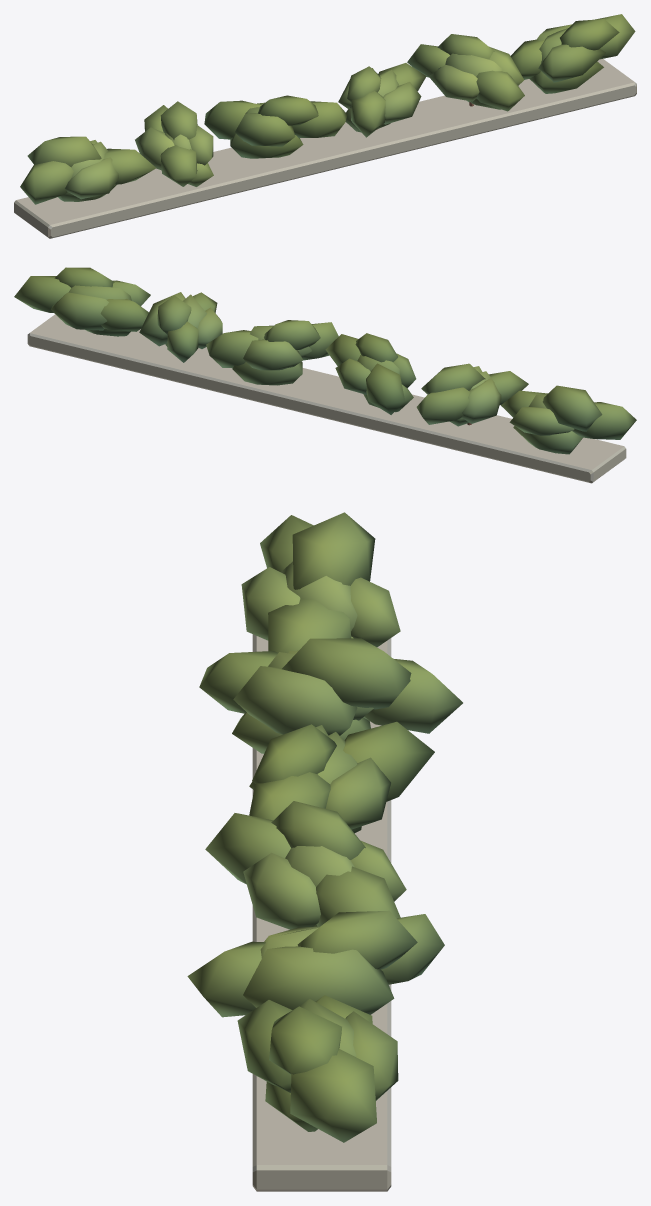
File: ART_ClippedHedge.lod.glb
The picture shows the model from 3 angles, top to bottom: view 1: azimuth 30°, elevation 25°; view 2: azimuth 150°, elevation 25°; view 3: azimuth 270°, elevation 25°; orthographic projection. The views are drawn at different scales.
Visible parts, largest first — view 1: ART_ClippedHedge; view 2: ART_ClippedHedge; view 3: ART_ClippedHedge.
Boxes of the visible parts, x1,y1,x2,y2 form: ART_ClippedHedge: [14, 14, 636, 238]; ART_ClippedHedge: [14, 267, 636, 483]; ART_ClippedHedge: [187, 512, 462, 1191].
Size of the model in its own units: 8.44 by 0.9976 by 1.69.
